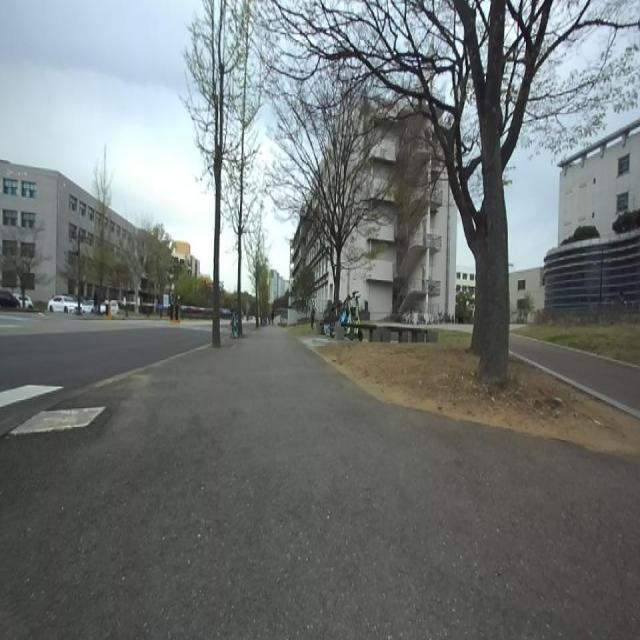sidewalk: (0, 328, 640, 639), (10, 402, 104, 434)
